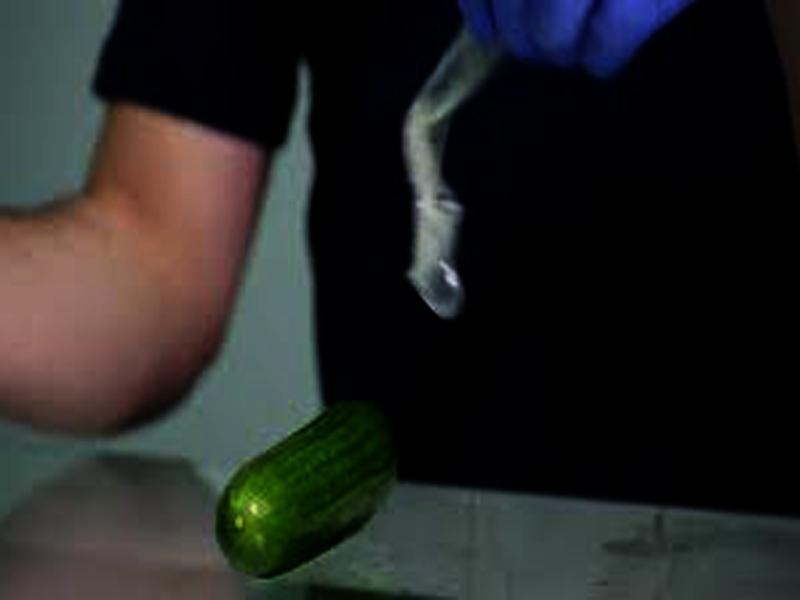Cucumber: (215, 400, 396, 579)
